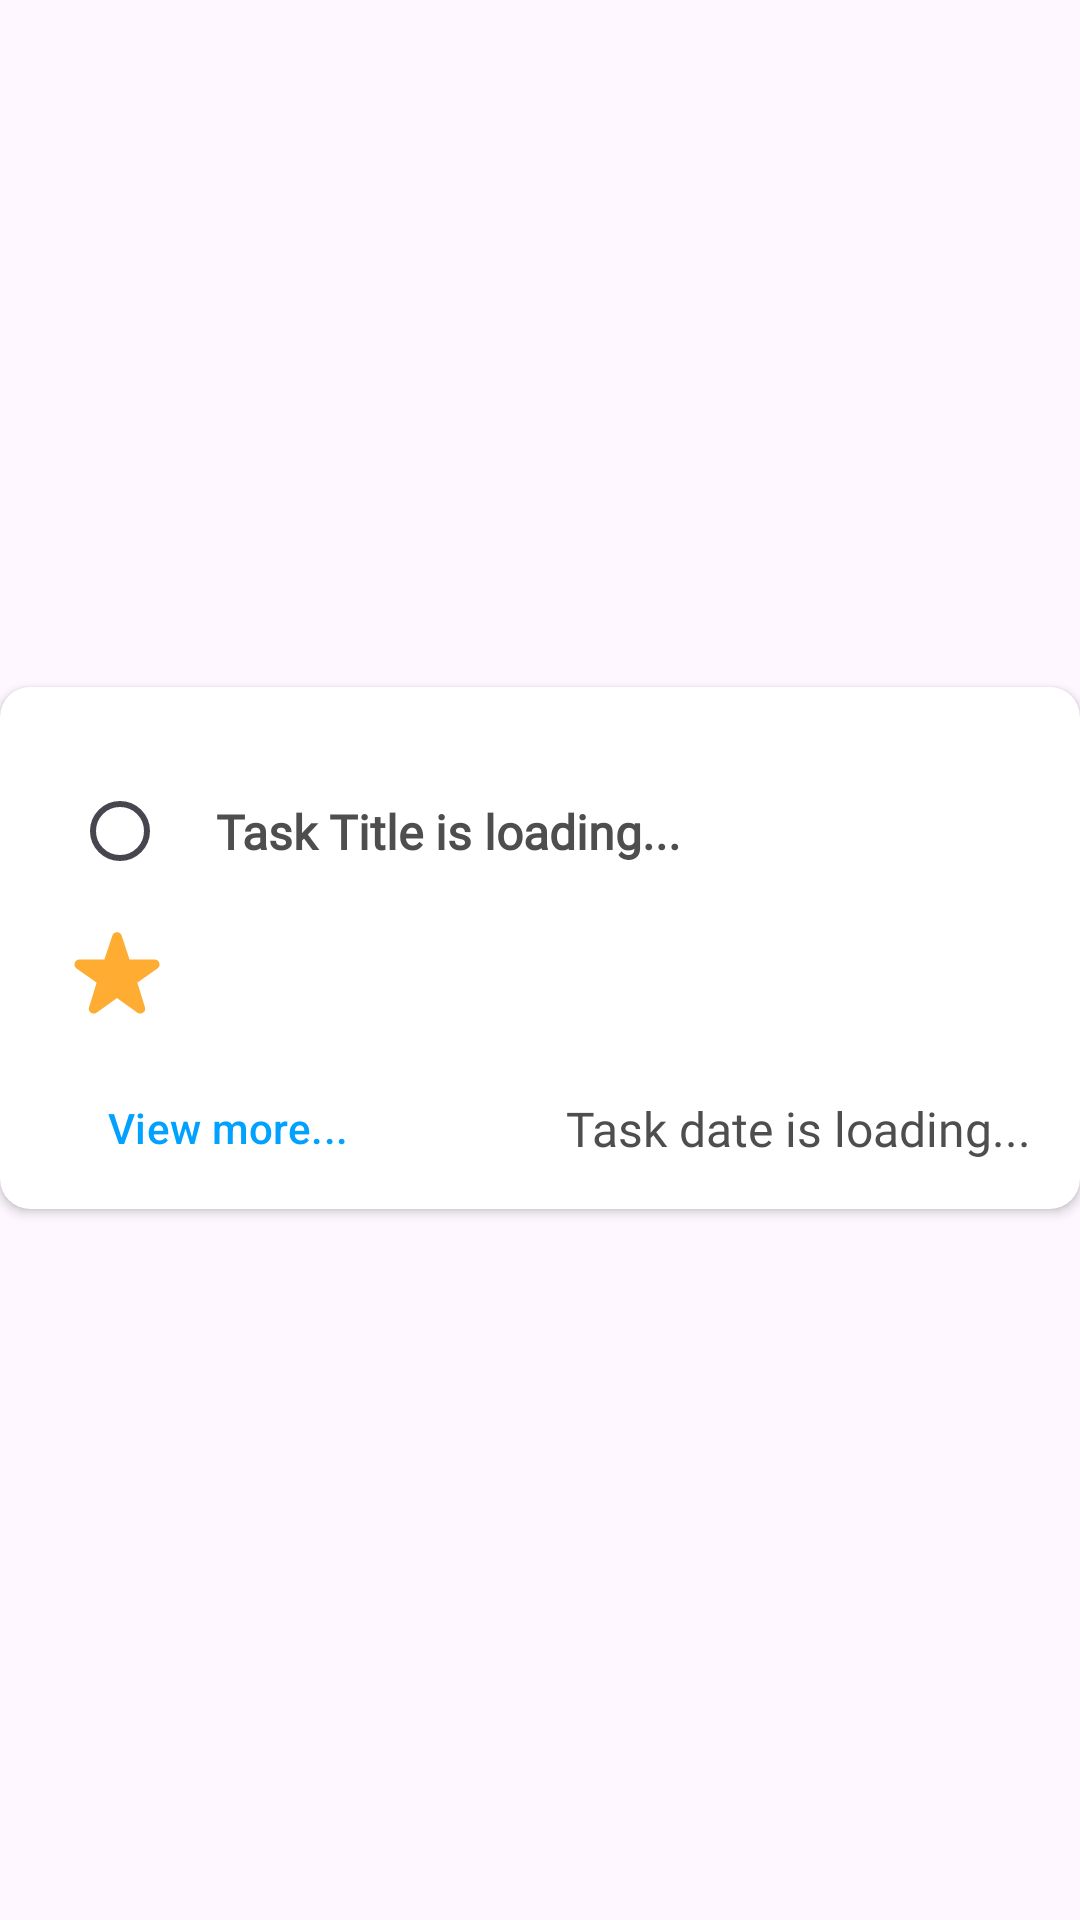

Screen size 1080*1920. Icon name, then its box in pixels as (x1=x1, y1=y1, x2=x2, y2=y2):
priority: (x1=74, y1=932, x2=160, y2=1014)
